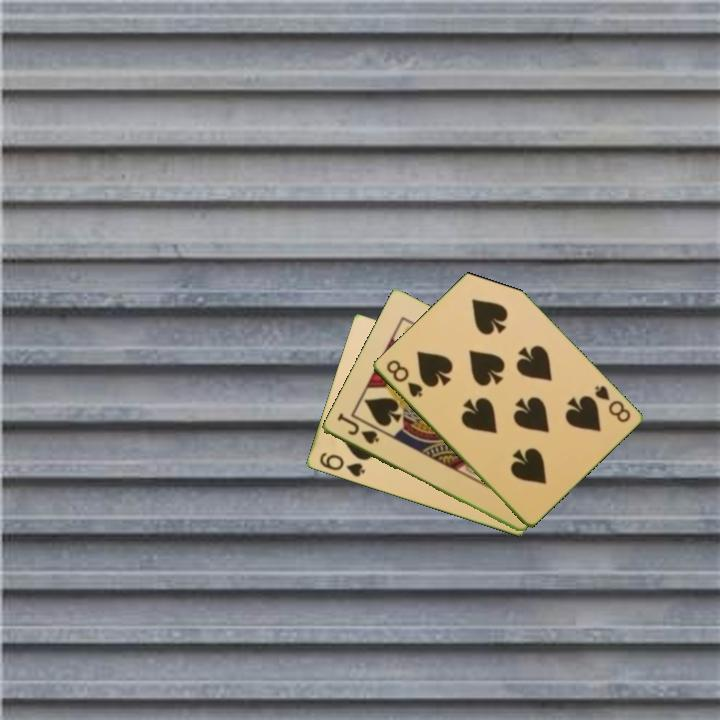6s: (315, 449, 368, 480)
8s: (382, 356, 425, 400), (591, 382, 633, 425)
Js: (333, 411, 382, 447)
